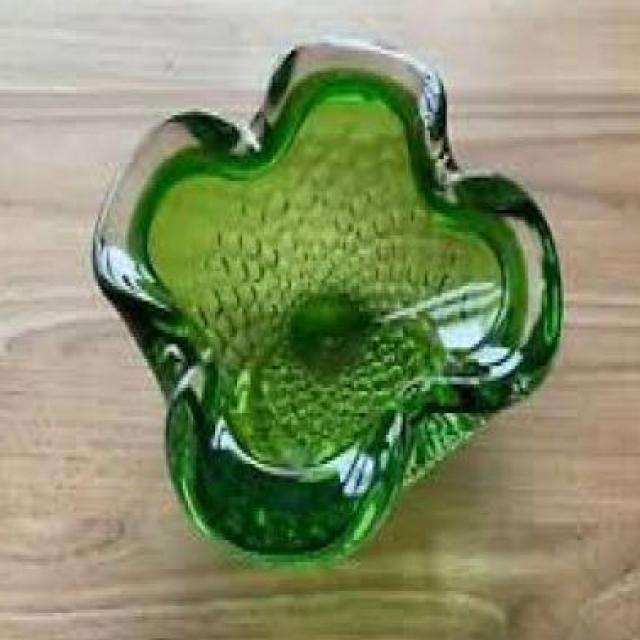kaca: (94, 39, 566, 562)
